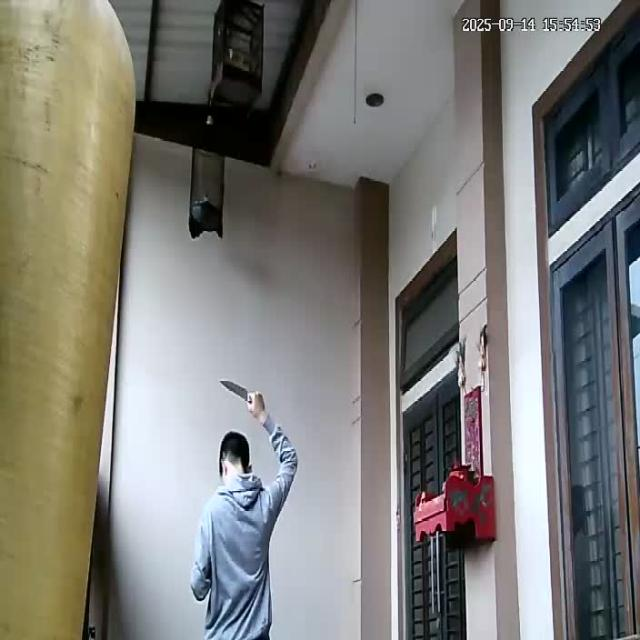senjata_tajam: (218, 378, 249, 403)
